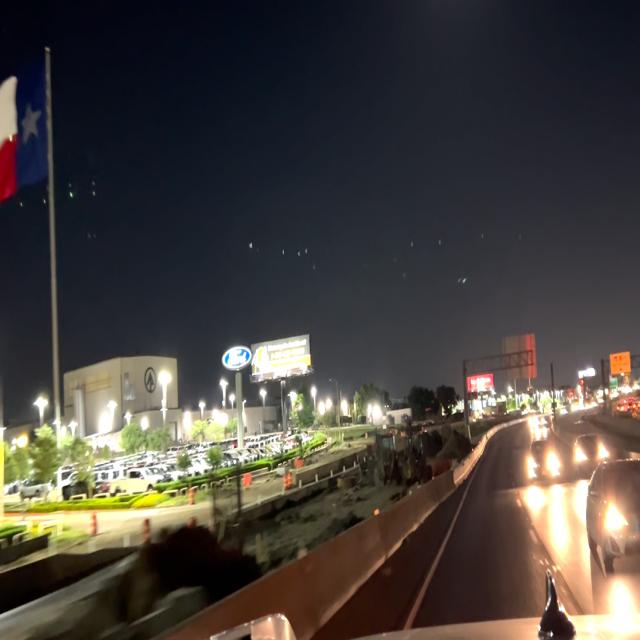back-of-sign: (499, 330, 539, 385)
